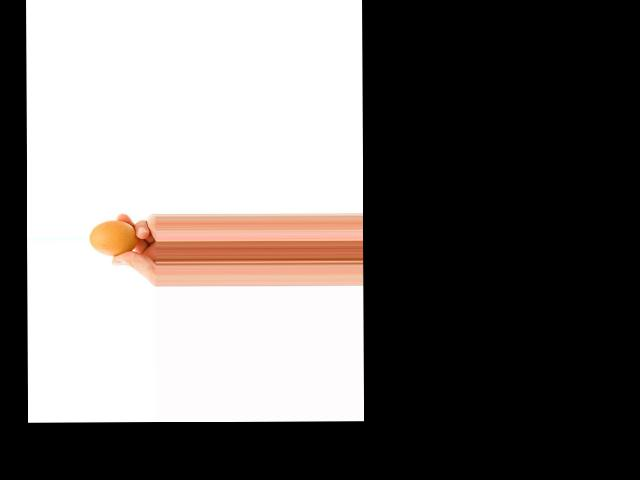egg: (89, 219, 136, 256)
